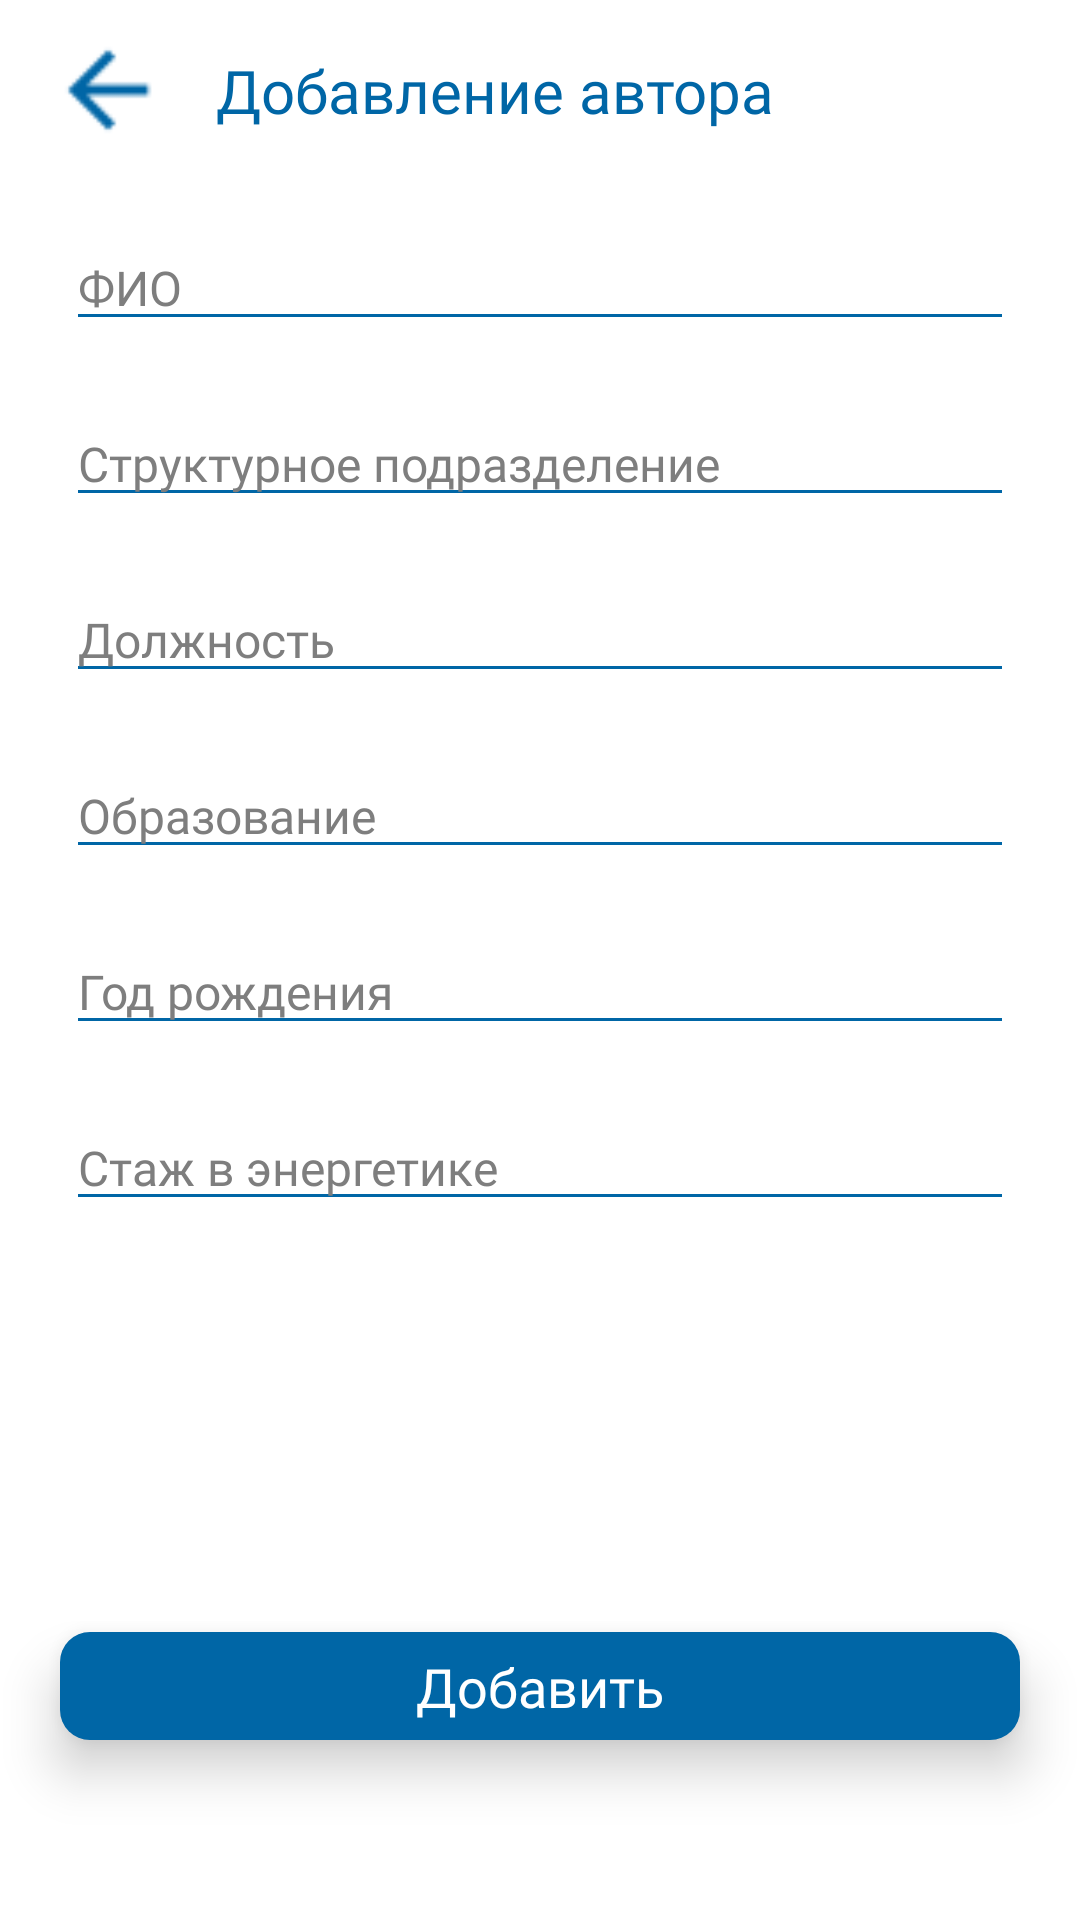

Icon bounding boxes for this 1080px x 1920px phone screenshot, format bbox=[x1, y1, x2, y2]:
arrow back: bbox=[68, 50, 151, 130]
